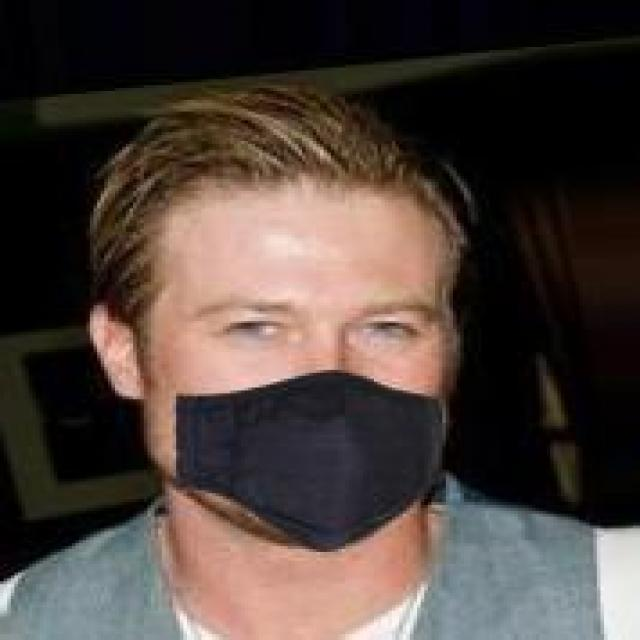mask: (65, 132, 543, 555)
